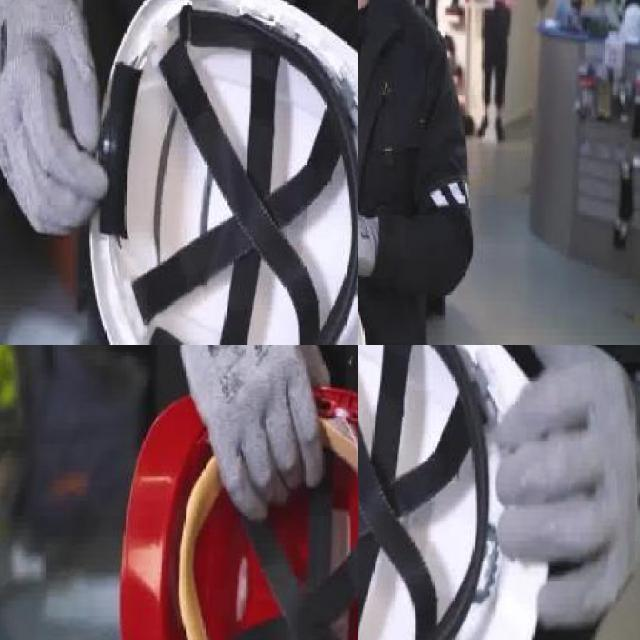apron: (491, 345, 640, 634), (166, 345, 332, 519), (0, 0, 109, 241), (358, 197, 379, 278)
